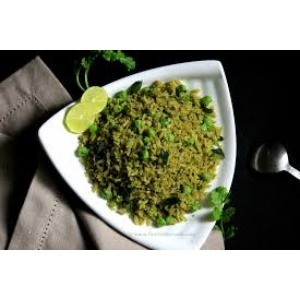green pea_brain food: (151, 212, 183, 235), (190, 89, 218, 111), (125, 115, 147, 140), (194, 169, 213, 186)
